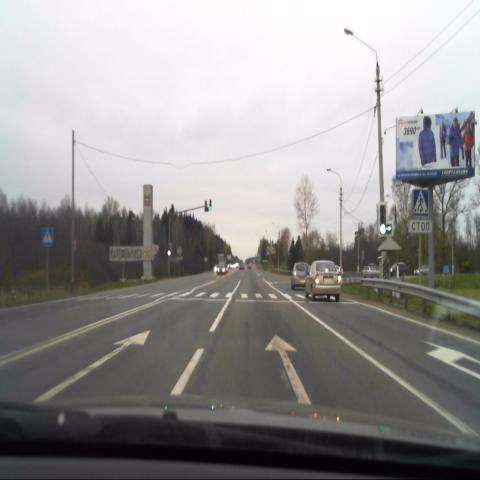5_19_1: (413, 189, 428, 216), (42, 227, 52, 246)
6_16: (408, 220, 433, 234)
